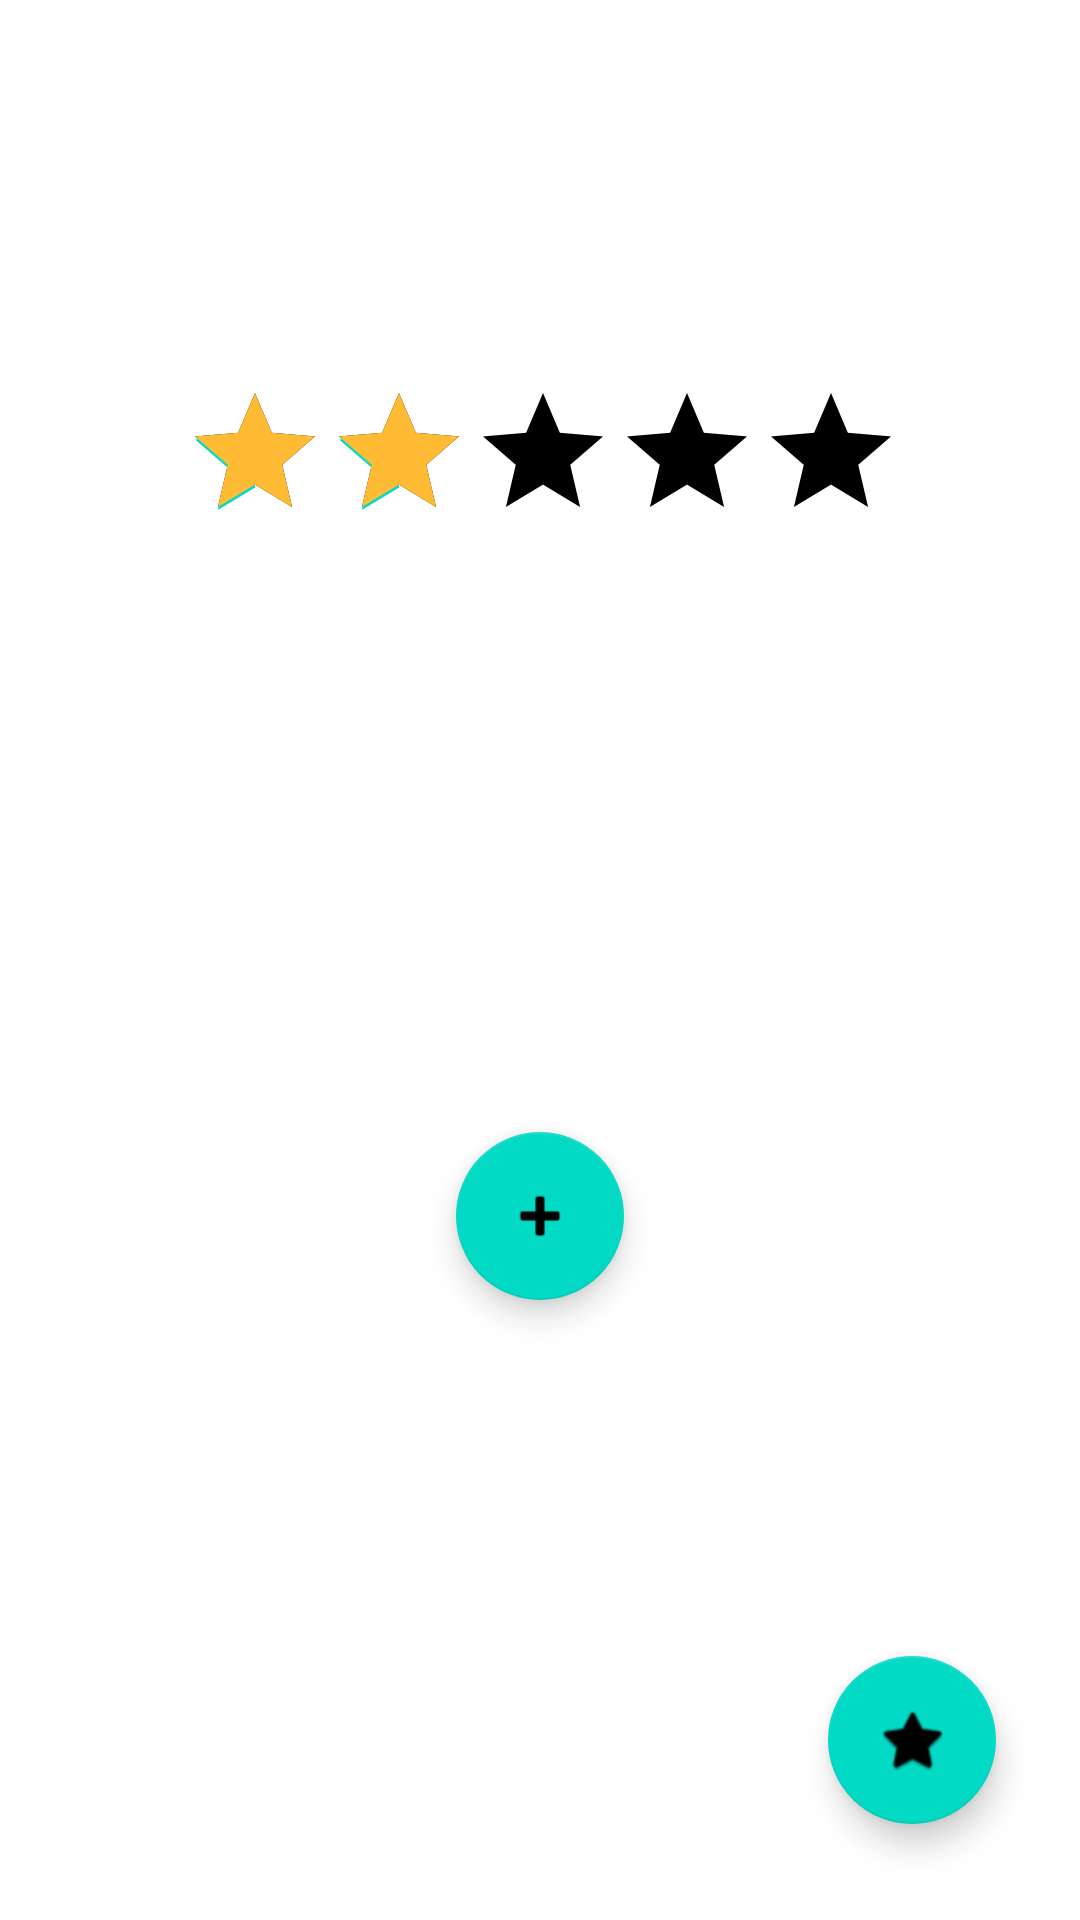

Point at icon controls on the screen. Image size 1080x1920, points as [x,y].
add: [540,1216]
